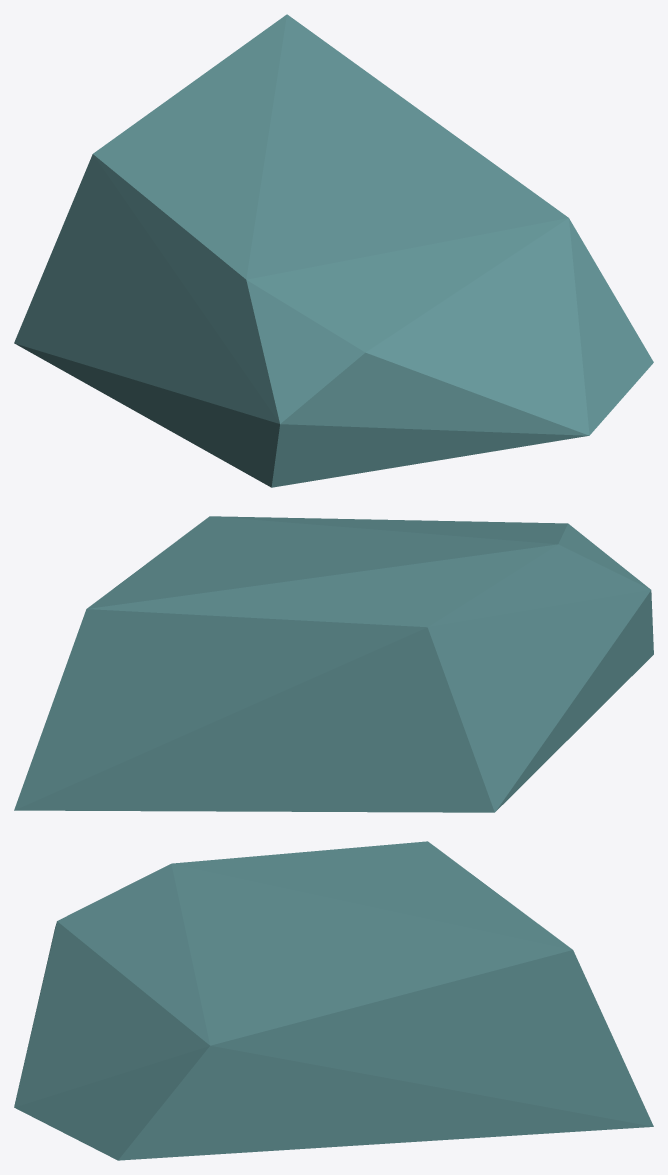
The model's file is Boulder_11_Collider_01.FBX.
The picture shows the model from 3 angles, top to bottom: view 1: azimuth 30°, elevation 25°; view 2: azimuth 150°, elevation 25°; view 3: azimuth 270°, elevation 25°; orthographic projection. The views are drawn at different scales.
Parts seen in each view (by area): view 1: COLLIDER1; view 2: COLLIDER1; view 3: COLLIDER1.
Part boxes in pixels (x1,y1,x2,y2): COLLIDER1: (14,14,653,487); COLLIDER1: (14,516,653,812); COLLIDER1: (14,841,653,1160).
Bounding box in the file's own units: 77.7 × 29.99 × 106.
